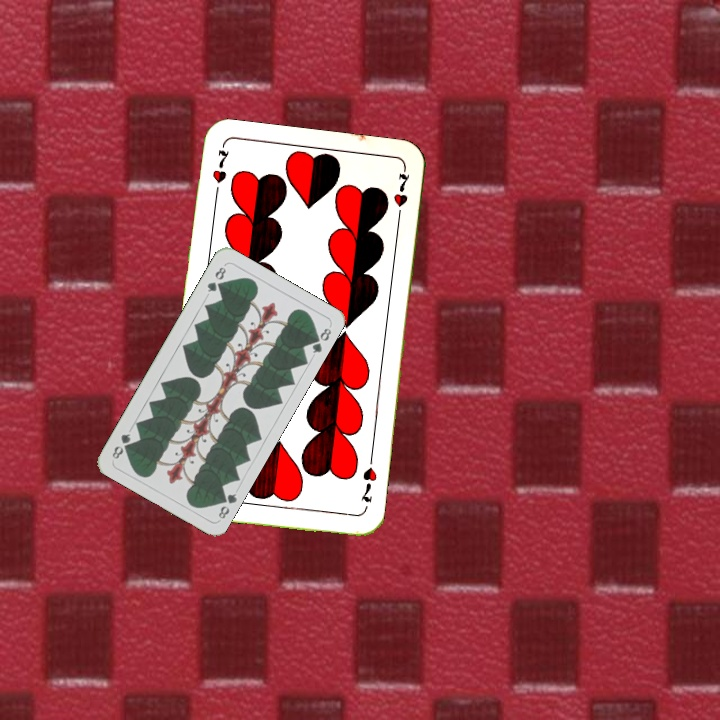G8: (203, 263, 229, 295), (214, 489, 239, 522)
H7: (208, 143, 232, 202), (357, 464, 380, 505)
